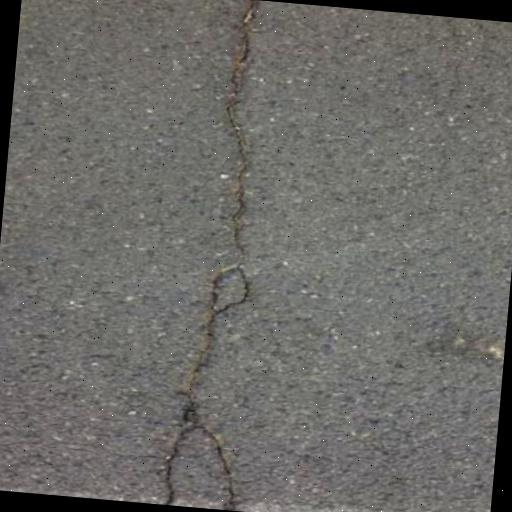spalling: (150, 16, 280, 499), (190, 403, 259, 502)
